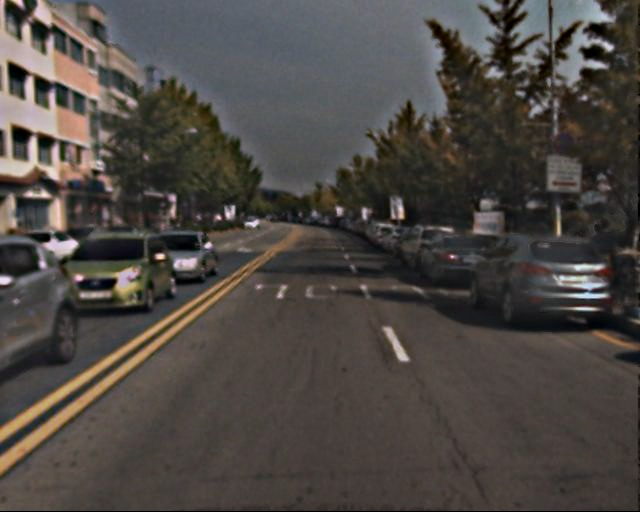person: (589, 218, 618, 292)
